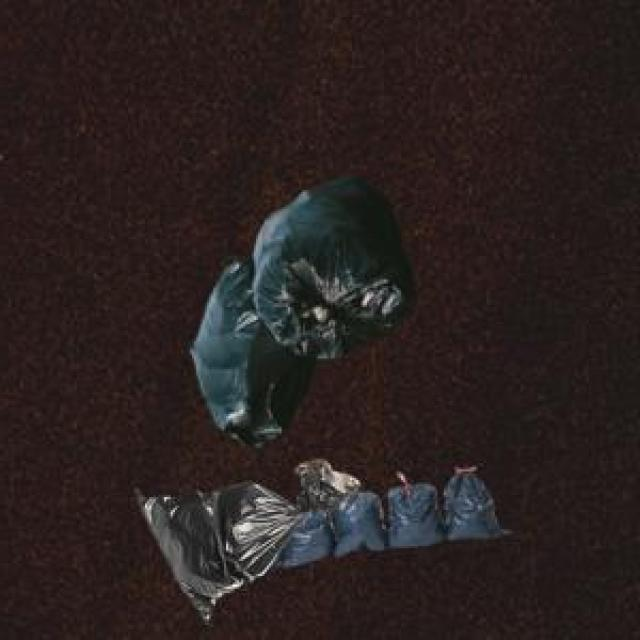Trashbag: (270, 176, 417, 360), (129, 474, 283, 624), (191, 262, 295, 434), (449, 472, 502, 540), (393, 482, 443, 546), (340, 488, 384, 555), (289, 509, 332, 563)
